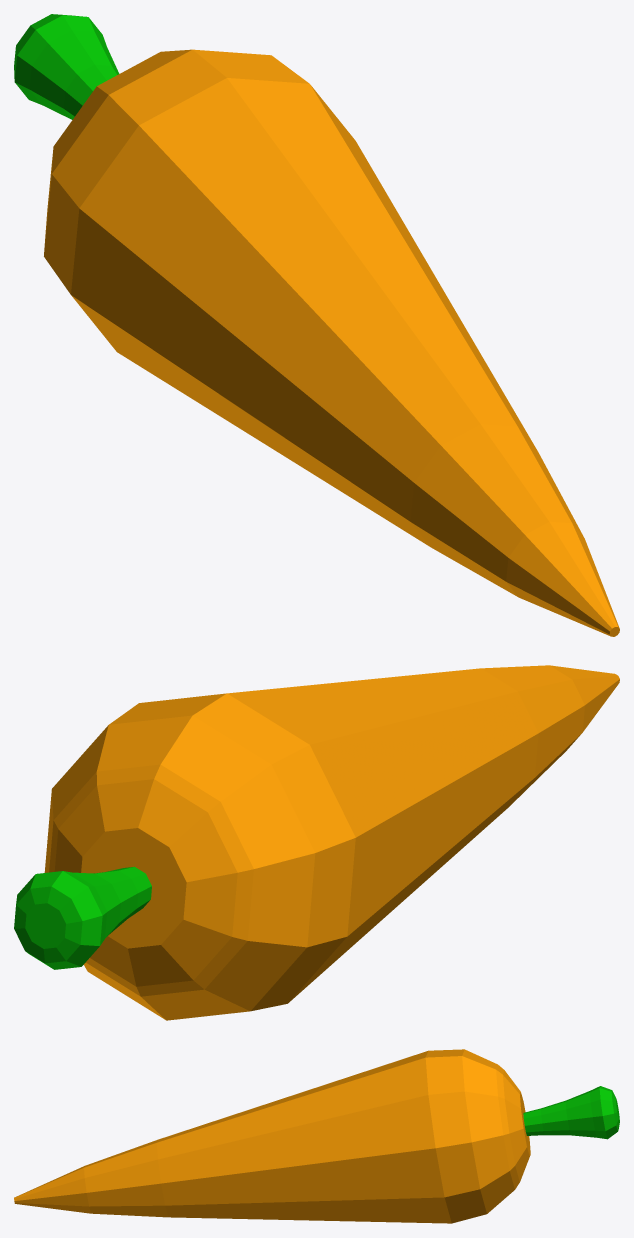
Rendered from Carrot_01.fbx.
3 views of the same model, one above another, from view 1: azimuth 30°, elevation 25°; view 2: azimuth 150°, elevation 25°; view 3: azimuth 270°, elevation 25° (orthographic). The views are drawn at different scales.
Parts seen in each view (by area): view 1: Carrot_01; view 2: Carrot_01; view 3: Carrot_01.
Boxes of the visible parts, x1,y1,x2,y2 form: Carrot_01: (14, 14, 619, 636); Carrot_01: (14, 665, 619, 1020); Carrot_01: (14, 1049, 619, 1223).
Size of the model in its own units: 3.85 by 4.04 by 13.8.
